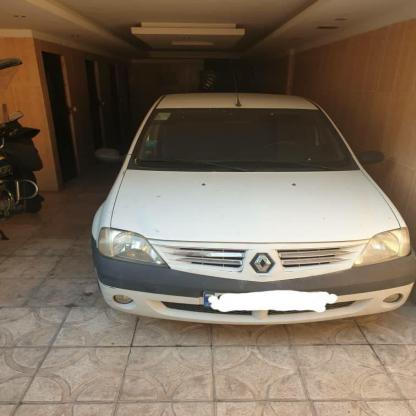Car: (91, 97, 416, 334)
